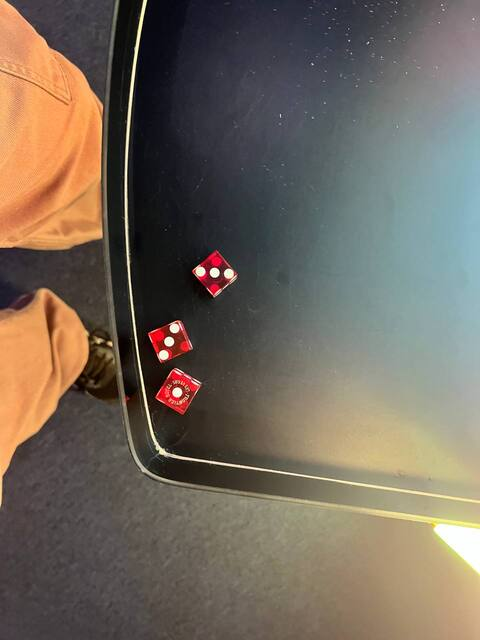one: (154, 371, 200, 414)
three: (189, 250, 239, 298), (146, 318, 192, 364)
